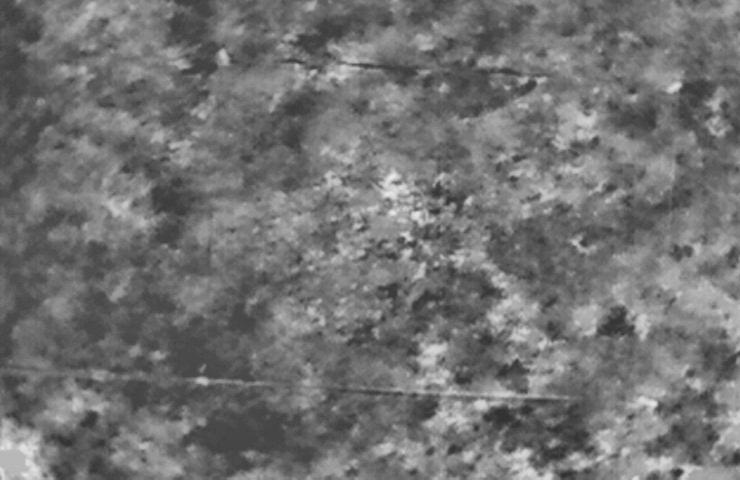landmines: (372, 164, 435, 224)
